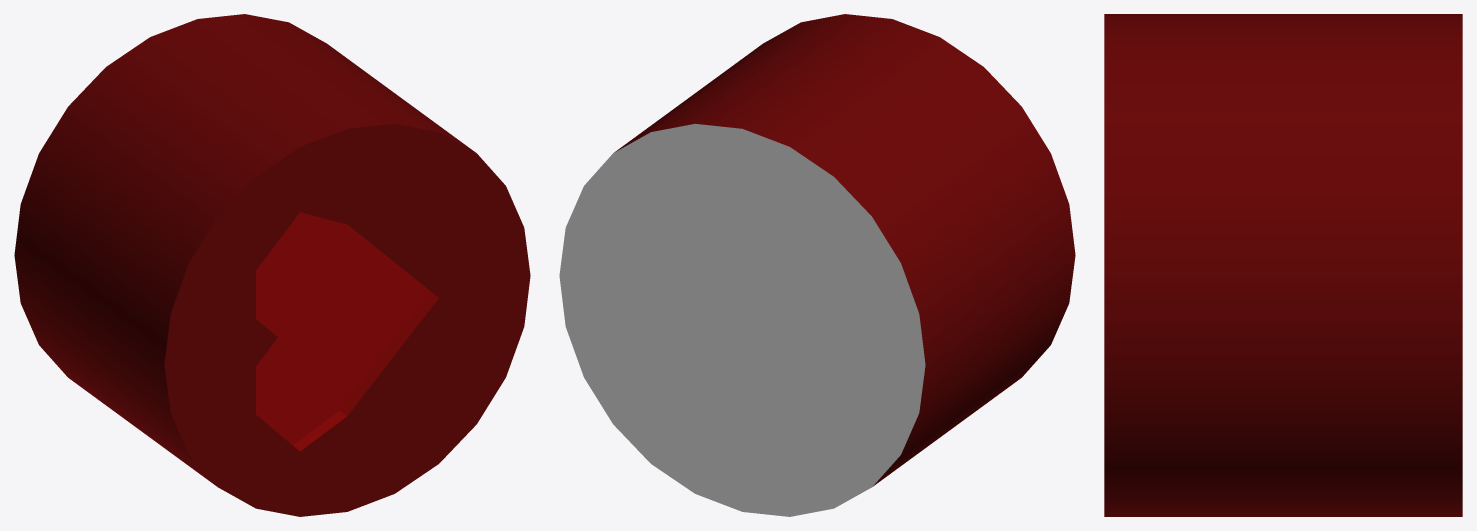
The model's file is heartstone.fbx.
The picture shows the model from 3 angles, left to right: view 1: azimuth 30°, elevation 25°; view 2: azimuth 150°, elevation 25°; view 3: azimuth 270°, elevation 25°; orthographic projection. The views are drawn at different scales.
Visible parts, largest first — view 1: Model; view 2: Model; view 3: Model.
Part boxes in pixels (box(x1,y1,x2,y2)): Model: box(14, 14, 530, 516); Model: box(559, 14, 1075, 516); Model: box(1104, 14, 1462, 516).
Bounding box in the file's own units: 2.72 × 2.72 × 1.93.
